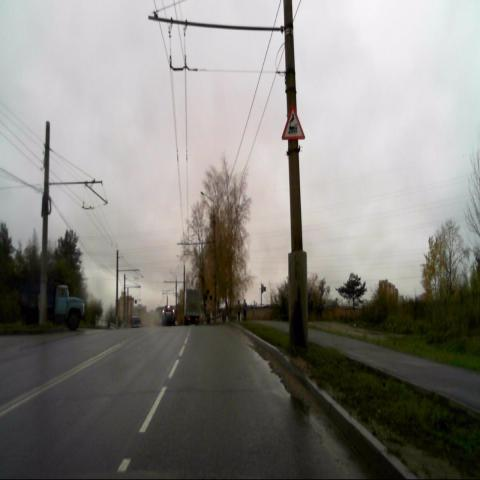1_2: (281, 104, 305, 140)
